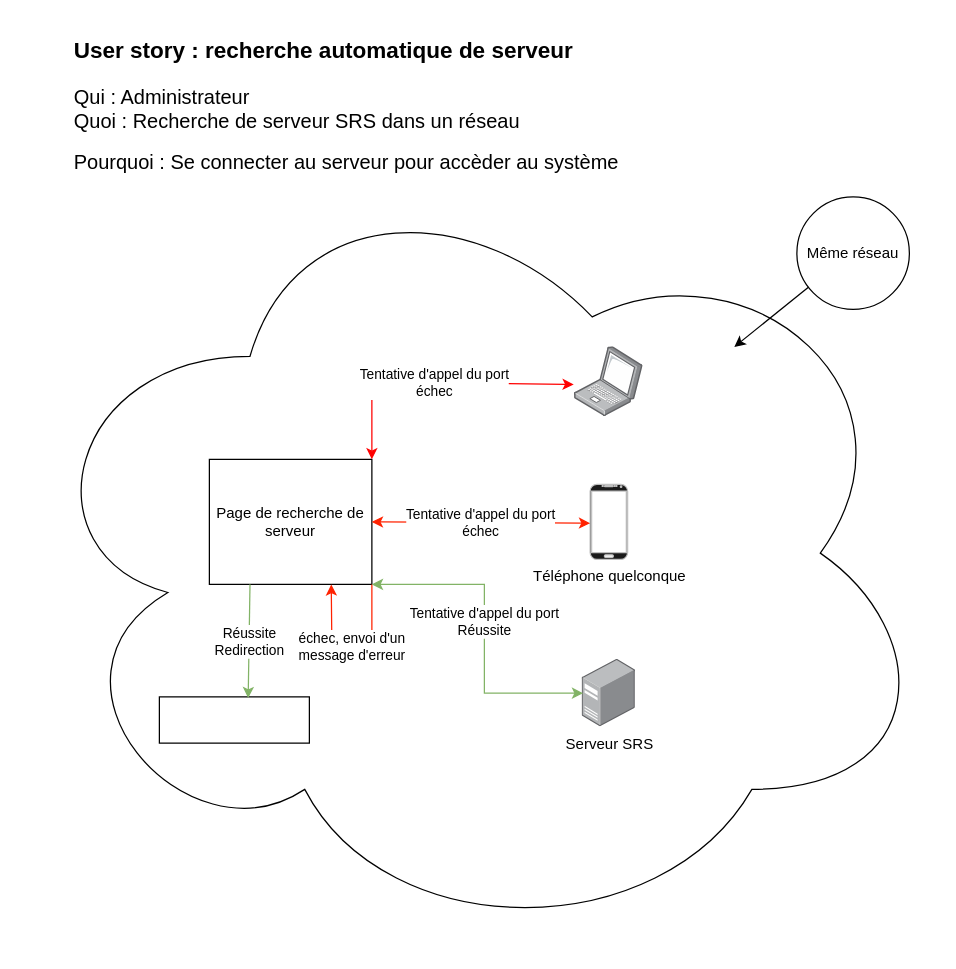
Image size: 956x969. Some labels were removed from this diagram. The centre of each missing label's shape, as x and y in pixels:
Pc quelconque: the point at 608,381
Suite de l'application: the point at 233,719
